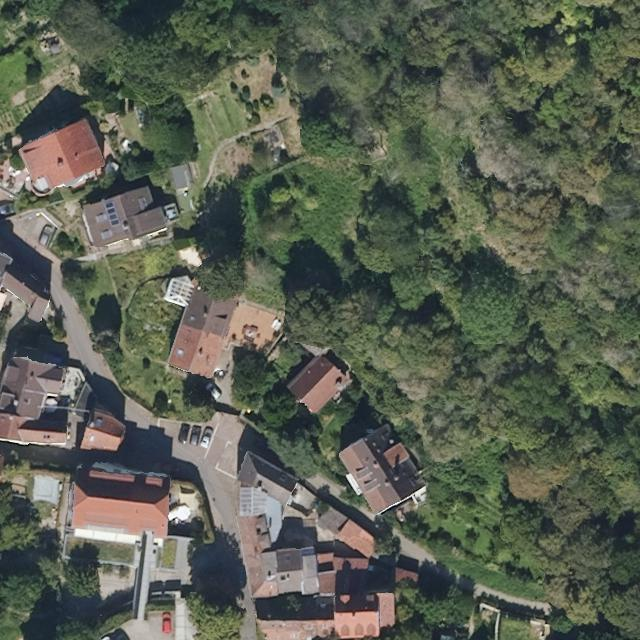PV: (102, 200, 121, 227)
